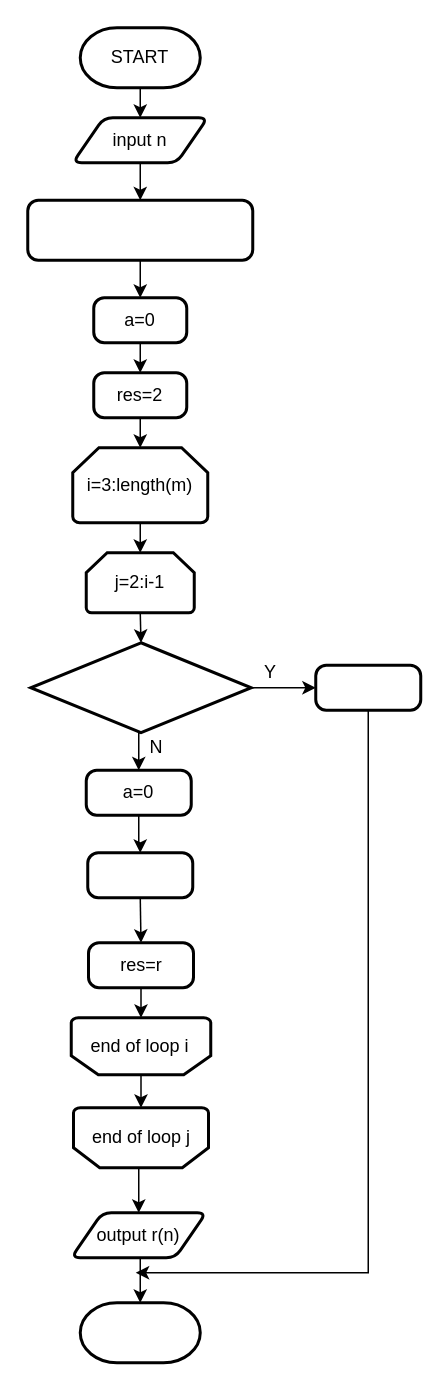
Some shapes in this 447 by 1389 pixel diagram are drawn without their labels. Here are the shapes that lost their labels. From the top down, the centre of each, then its label:
(x=140, y=229): m=linespace(1,1000,1000)
(x=140, y=687): mod(m(i),j)=0
(x=368, y=687): a=1
(x=140, y=874): r=[res,m(i)]
(x=139, y=1332): END
